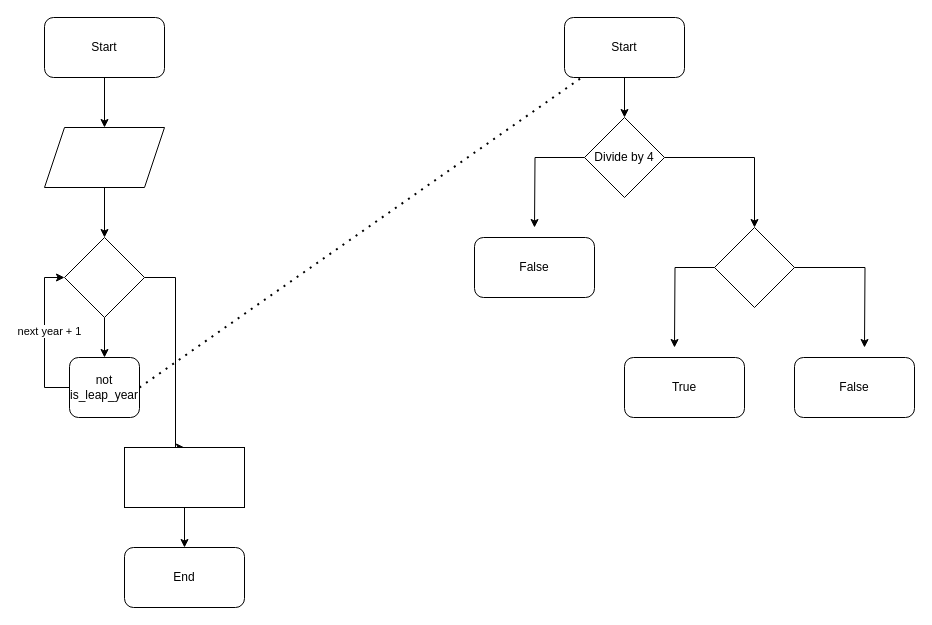
This 932x625 diagram has some shape labels left out. Each missing label, with the centre of its shape:
Dvide by 100: (x=754, y=267)
Input: (x=104, y=157)
Return next_year: (x=184, y=477)
while: (x=104, y=277)
